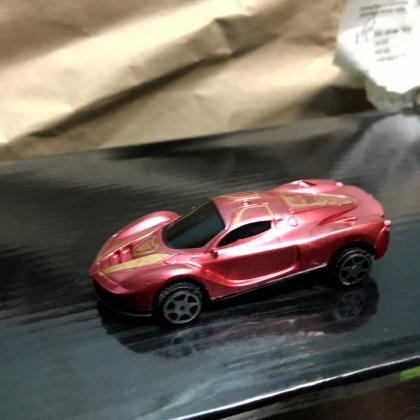Car: (89, 179, 392, 328)
